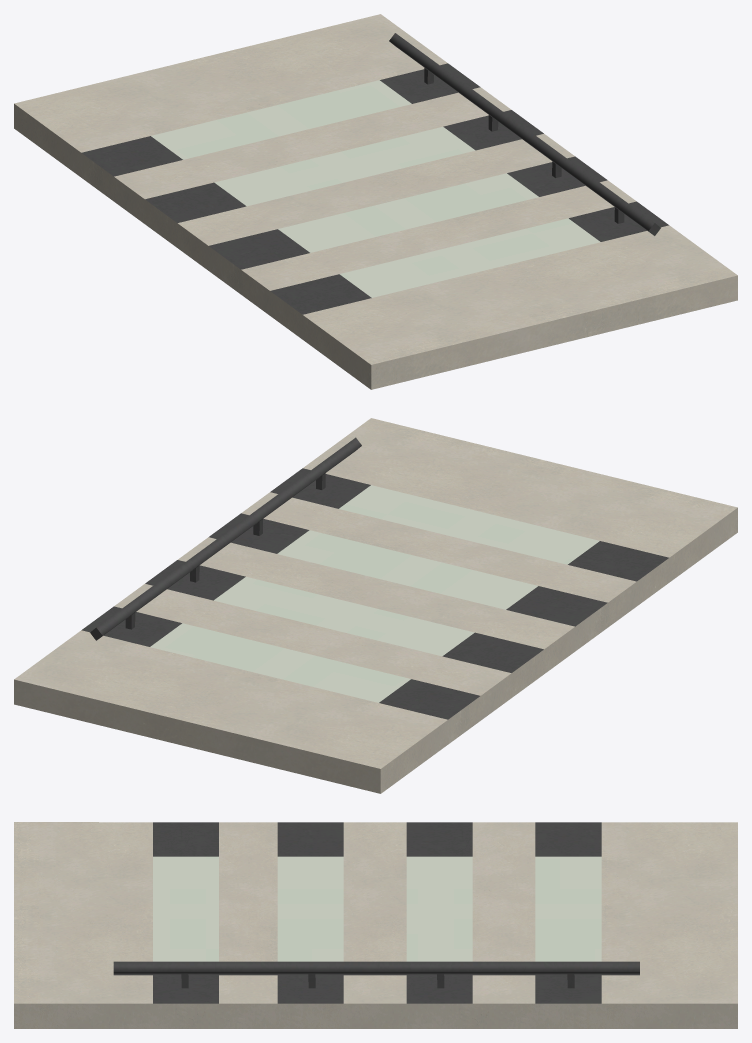
Rendered from nt_2020_door_raid_white_LOD1.obj.
3 views of the same model, one above another, from view 1: azimuth 30°, elevation 25°; view 2: azimuth 150°, elevation 25°; view 3: azimuth 270°, elevation 25° (orthographic).
Visible parts, largest first — view 1: plaster_wall_whitepaint03, ap_glass_sanded_opaque, metal_chrome_boat; view 2: plaster_wall_whitepaint03, ap_glass_sanded_opaque, metal_chrome_boat; view 3: plaster_wall_whitepaint03, ap_glass_sanded_opaque, metal_chrome_boat.
Part boxes in pixels (<box>): plaster_wall_whitepaint03: <box>14,14,737,389</box>; ap_glass_sanded_opaque: <box>151,80,600,297</box>; metal_chrome_boat: <box>81,33,668,314</box>; plaster_wall_whitepaint03: <box>14,418,737,793</box>; ap_glass_sanded_opaque: <box>150,485,599,702</box>; metal_chrome_boat: <box>81,437,668,719</box>; plaster_wall_whitepaint03: <box>14,822,737,1028</box>; ap_glass_sanded_opaque: <box>153,856,601,961</box>; metal_chrome_boat: <box>113,822,639,1003</box>.
Bounding box in the file's own units: 153 × 25.79 × 258.
